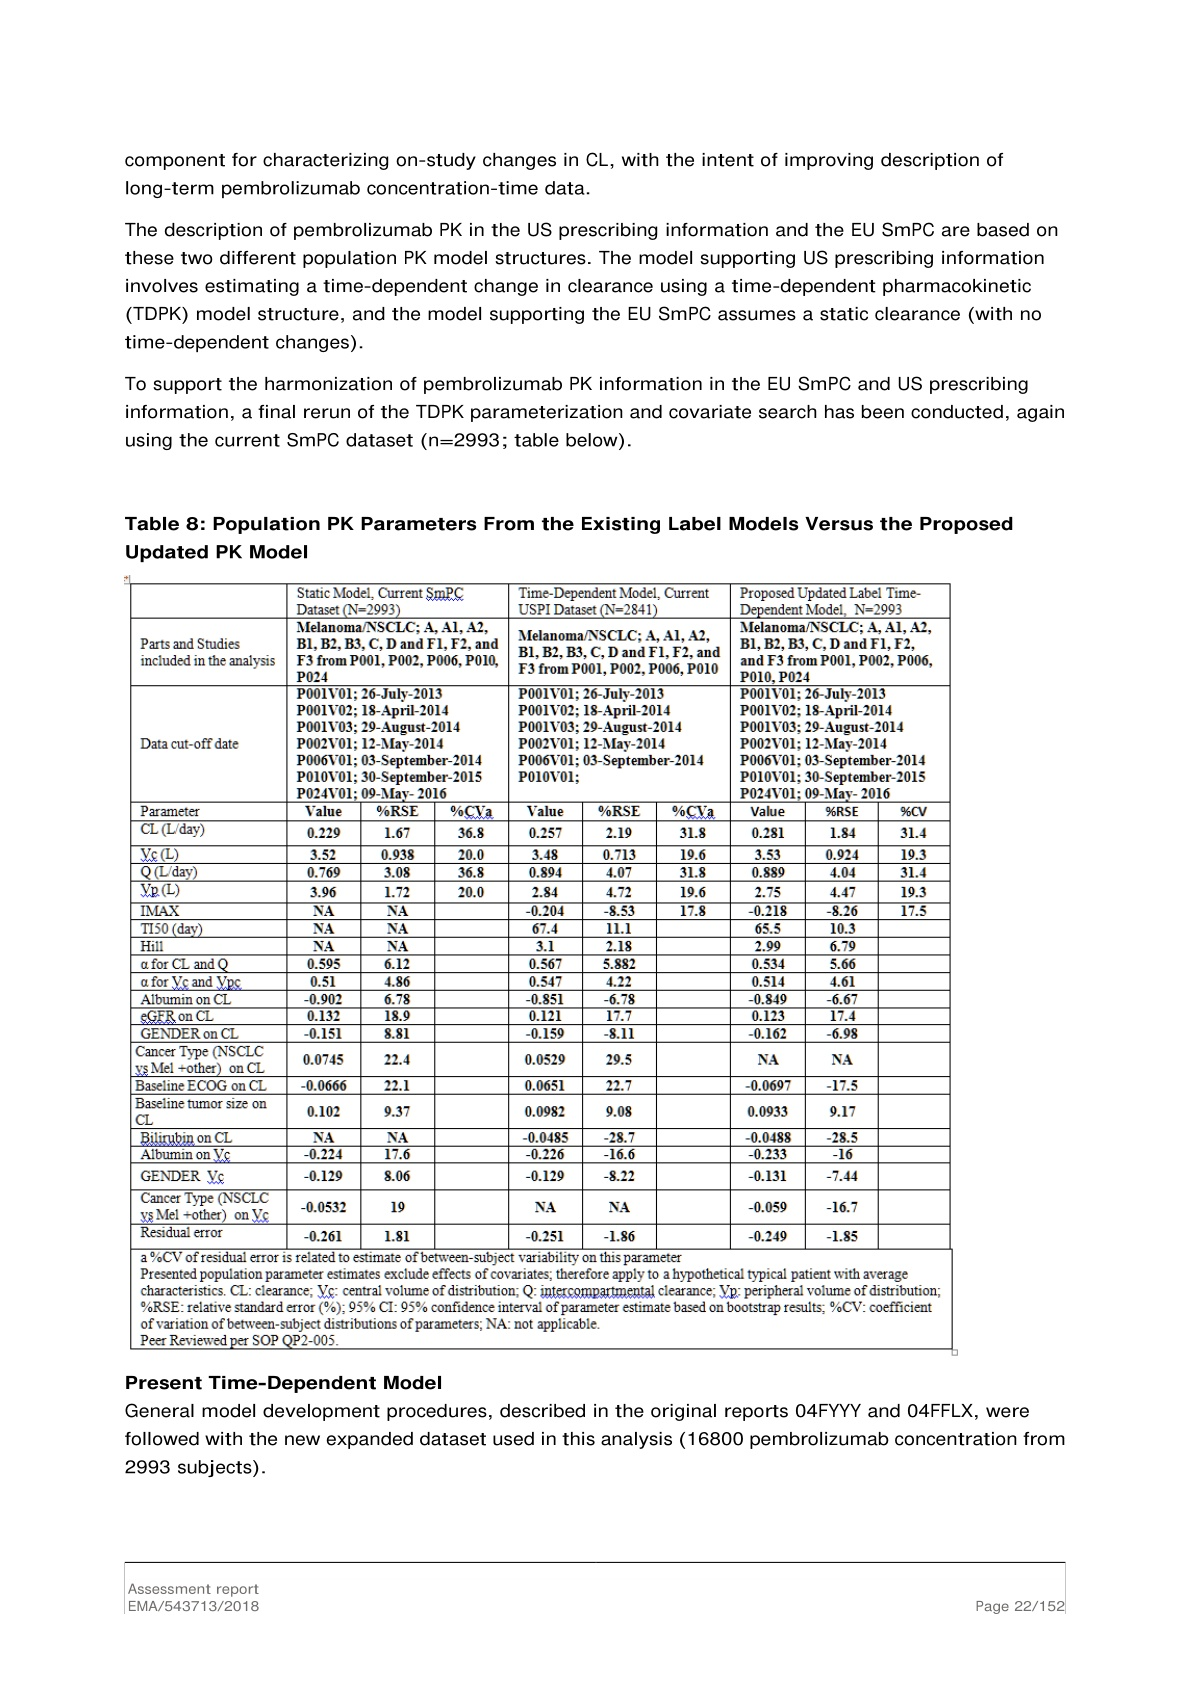merged_cells: (129, 582, 954, 1351)
